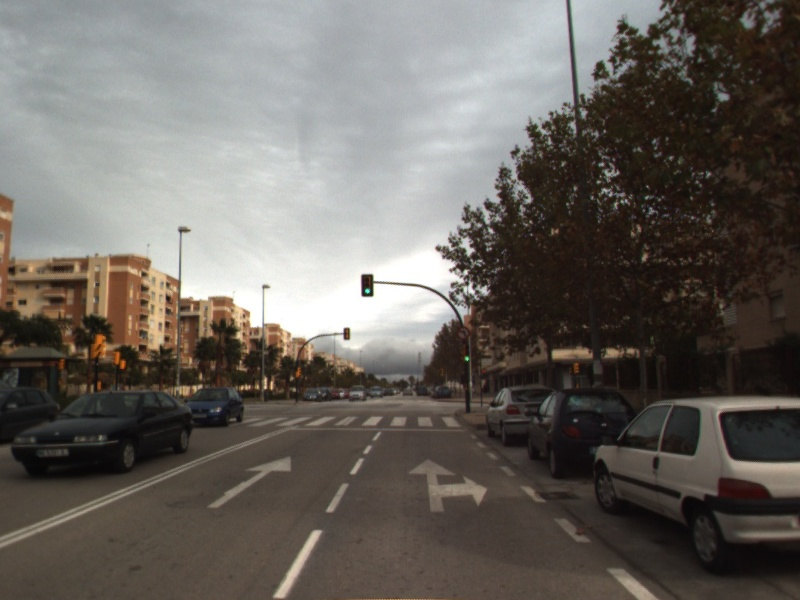STRAIGHT: (205, 454, 293, 510)
STRAIGHT_RIGHT: (406, 456, 490, 514)
